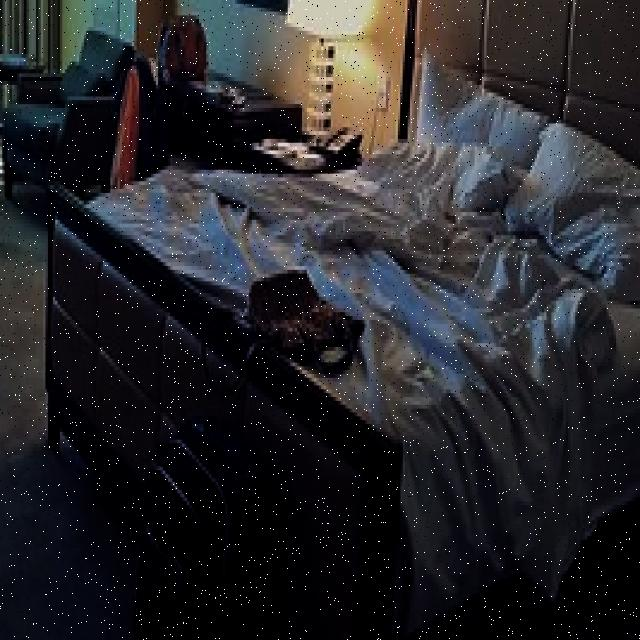bed: (48, 50, 640, 612)
